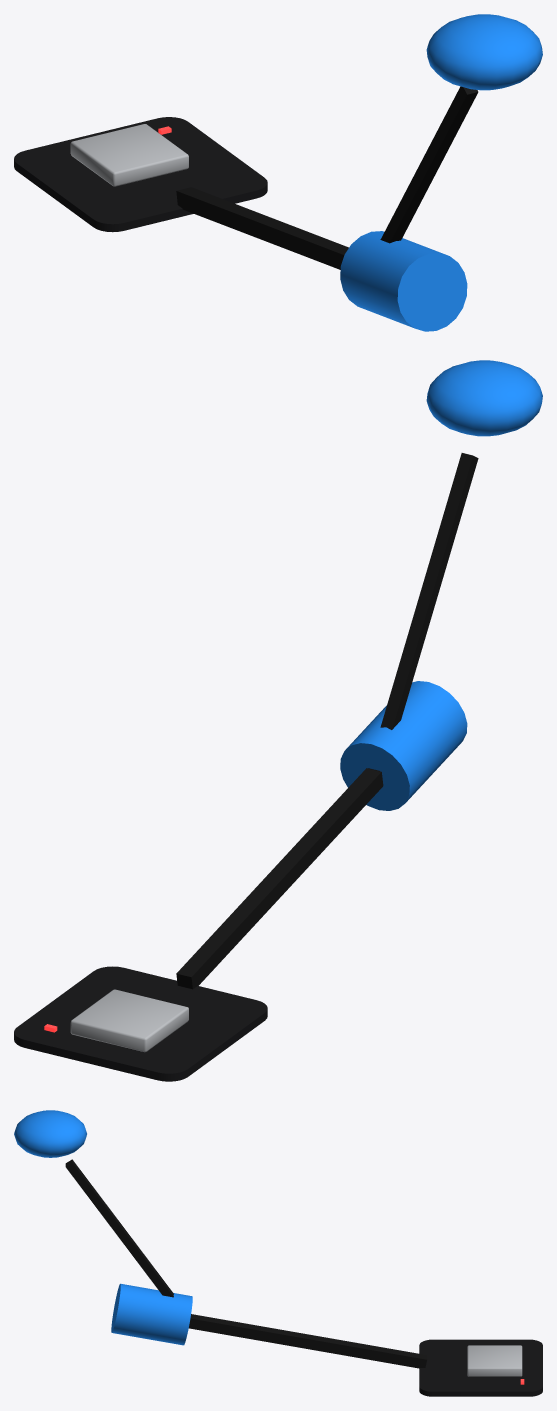
Rendered from vtx_analog.glb.
3 renders of one model, top to bottom at view 1: azimuth 30°, elevation 25°; view 2: azimuth 150°, elevation 25°; view 3: azimuth 270°, elevation 25°, orthographic. The views are drawn at different scales.
Visible parts, largest first — view 1: vtx_analog_M_AntCap, vtx_analog_M_PCB, vtx_analog_M_WireBlack, vtx_analog_M_Shield; view 2: vtx_analog_M_AntCap, vtx_analog_M_PCB, vtx_analog_M_WireBlack, vtx_analog_M_Shield; view 3: vtx_analog_M_AntCap, vtx_analog_M_WireBlack, vtx_analog_M_PCB, vtx_analog_M_Shield.
Boxes of the visible parts, left/top/right/bottom form: vtx_analog_M_AntCap: left=340, top=14, right=542, bottom=331; vtx_analog_M_PCB: left=14, top=117, right=267, bottom=232; vtx_analog_M_WireBlack: left=176, top=86, right=478, bottom=269; vtx_analog_M_Shield: left=70, top=124, right=188, bottom=186; vtx_analog_M_AntCap: left=340, top=360, right=542, bottom=810; vtx_analog_M_PCB: left=14, top=966, right=267, bottom=1081; vtx_analog_M_WireBlack: left=176, top=453, right=478, bottom=989; vtx_analog_M_Shield: left=70, top=989, right=188, bottom=1052; vtx_analog_M_AntCap: left=14, top=1110, right=192, bottom=1345; vtx_analog_M_WireBlack: left=65, top=1159, right=427, bottom=1368; vtx_analog_M_PCB: left=419, top=1339, right=542, bottom=1396; vtx_analog_M_Shield: left=467, top=1345, right=522, bottom=1376.
Size of the model in its own units: 0.027 by 0.0614 by 0.1155.
